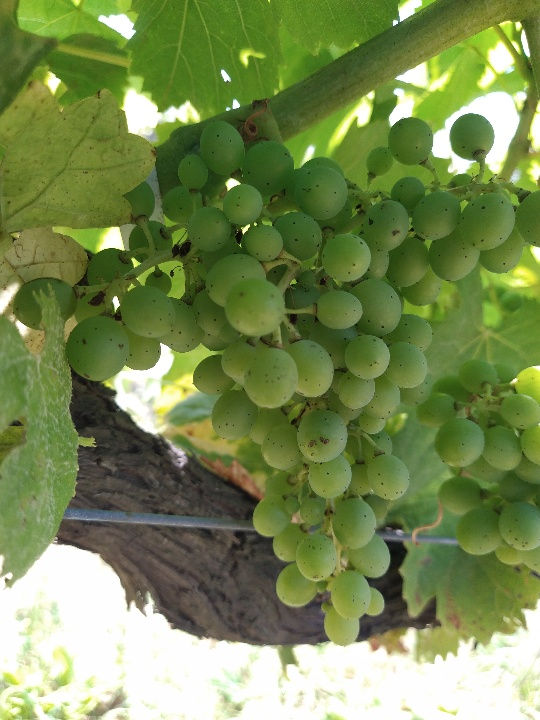grape: (9, 111, 536, 648)
